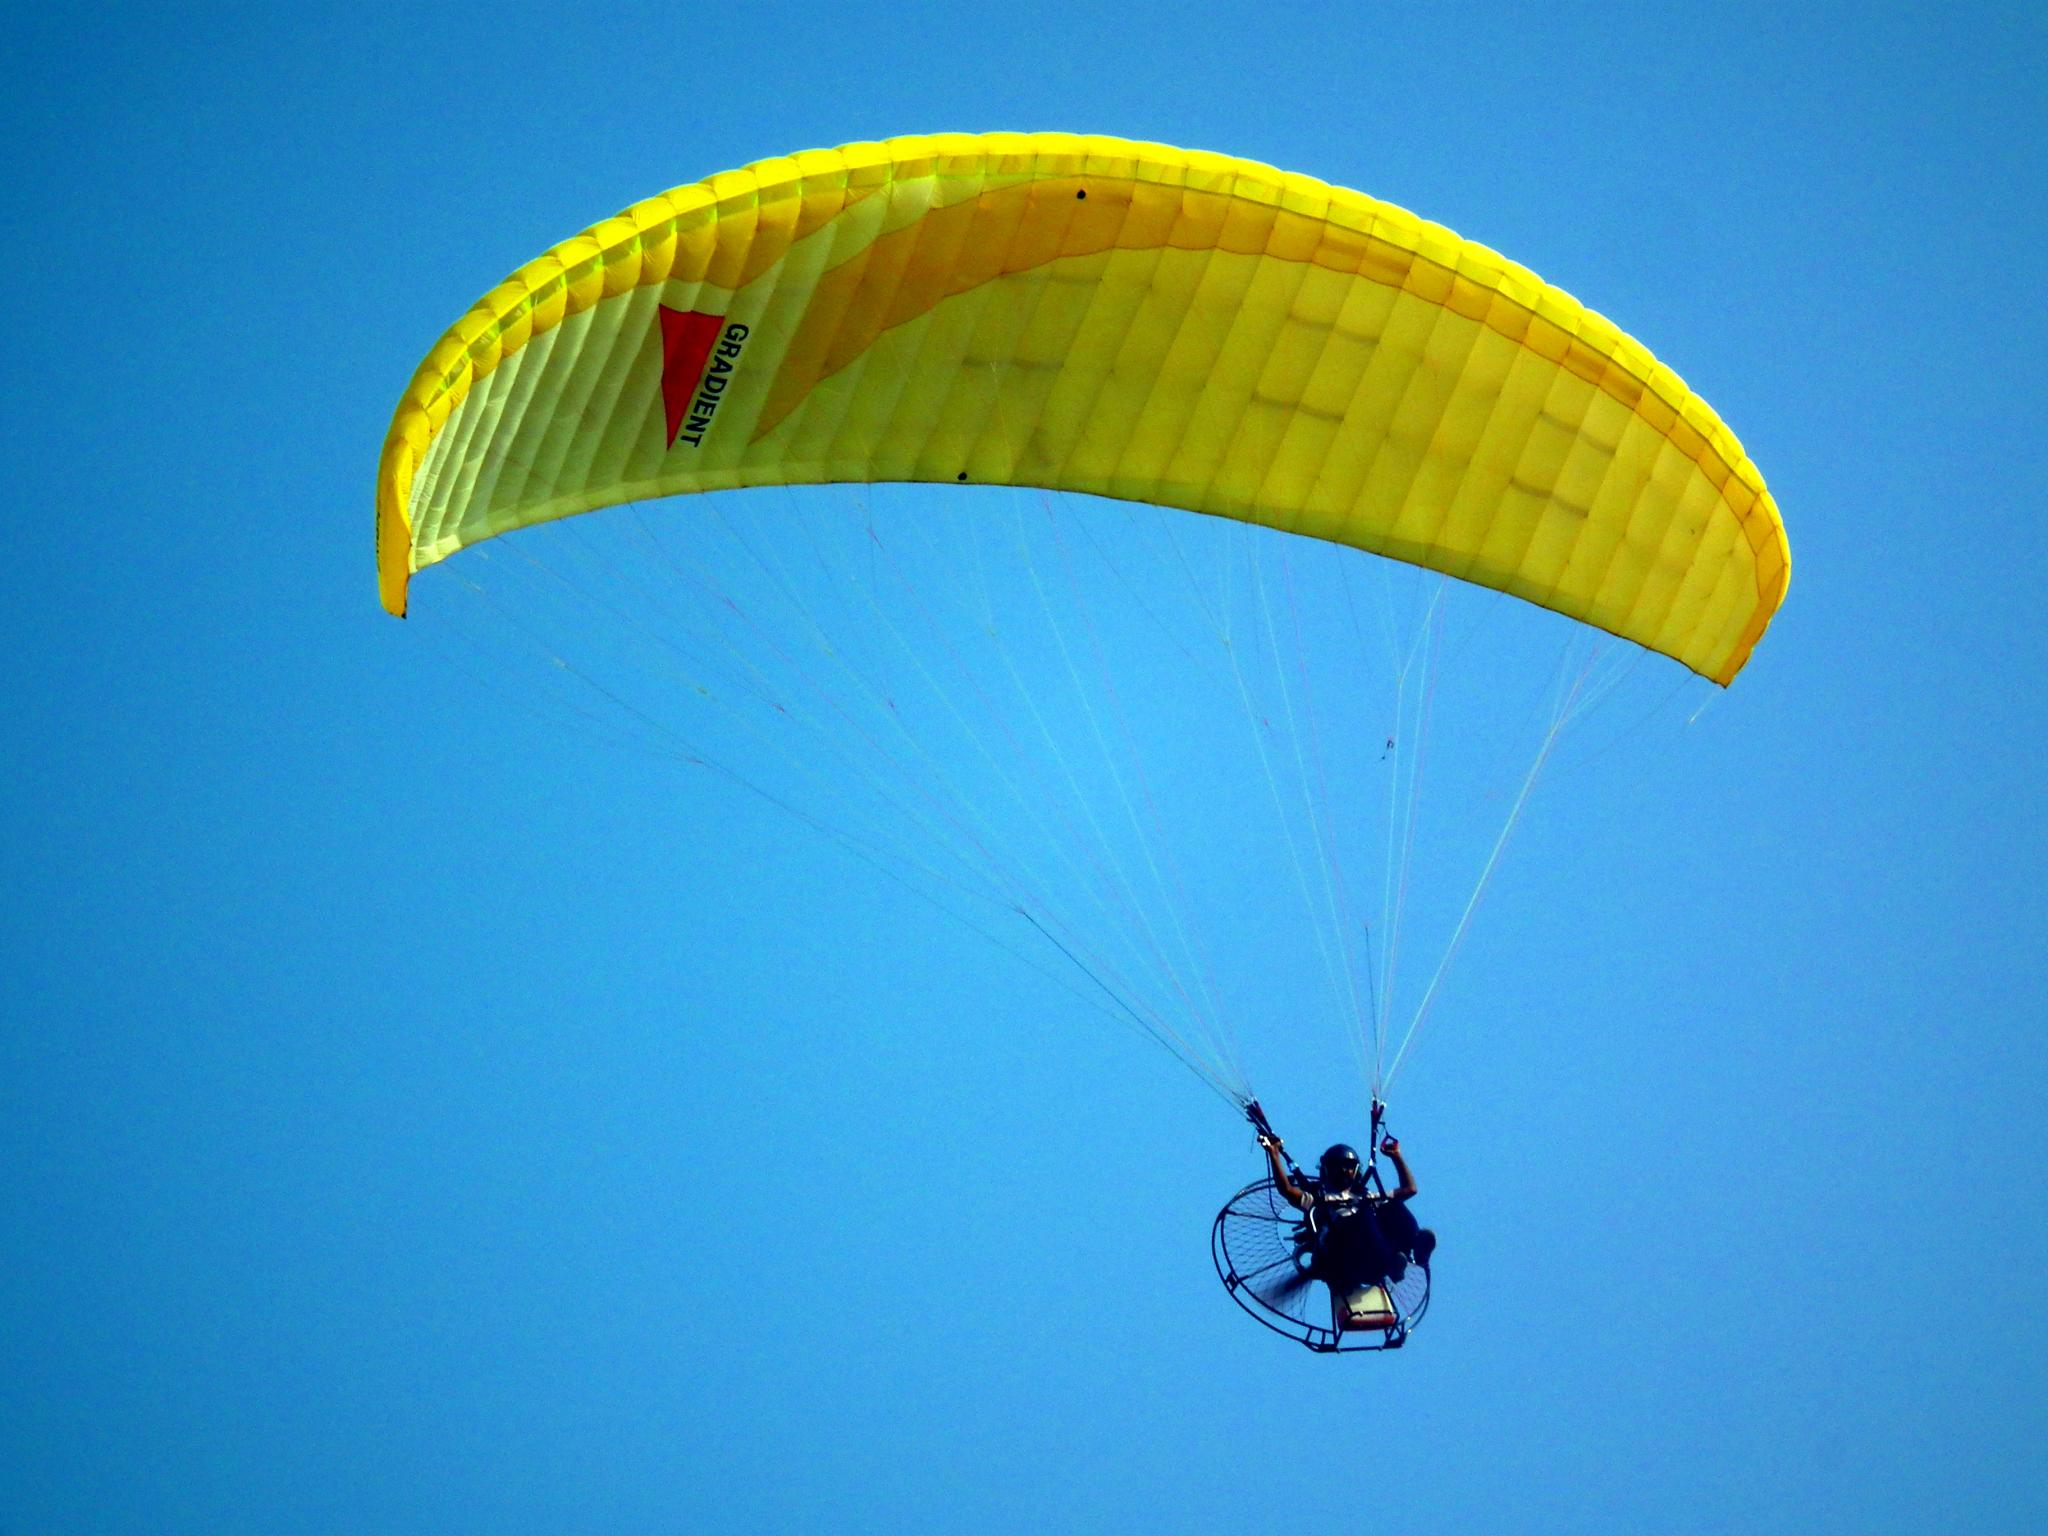Paraglider: (343, 127, 1801, 758)
